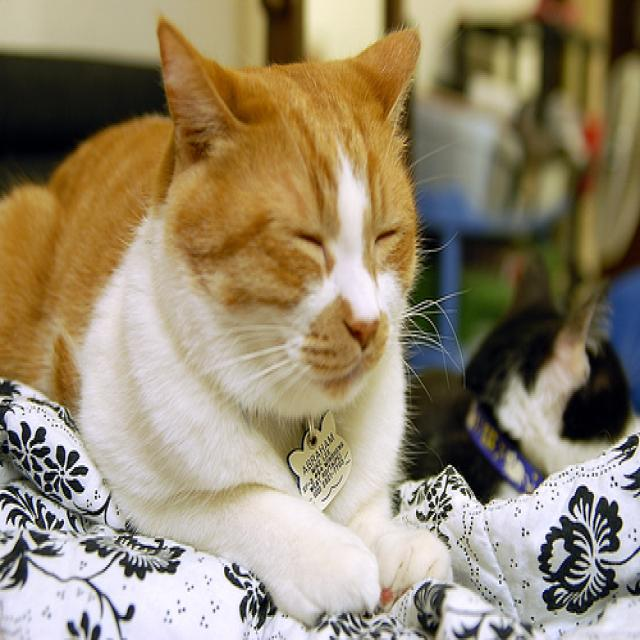left eye: (372, 219, 402, 248)
